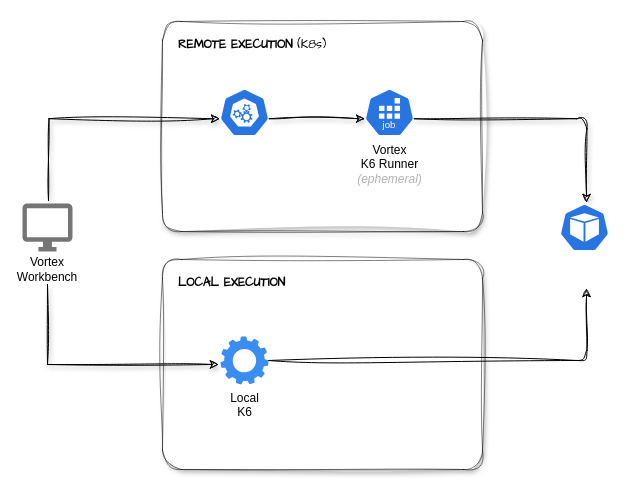
This 630x494 diagram has some shape labels left out. Here are the shapes that lost their labels. From the top down, the centre of each, then its label:
(244,112): Vortex Coordinator
(584,227): System Under Test
